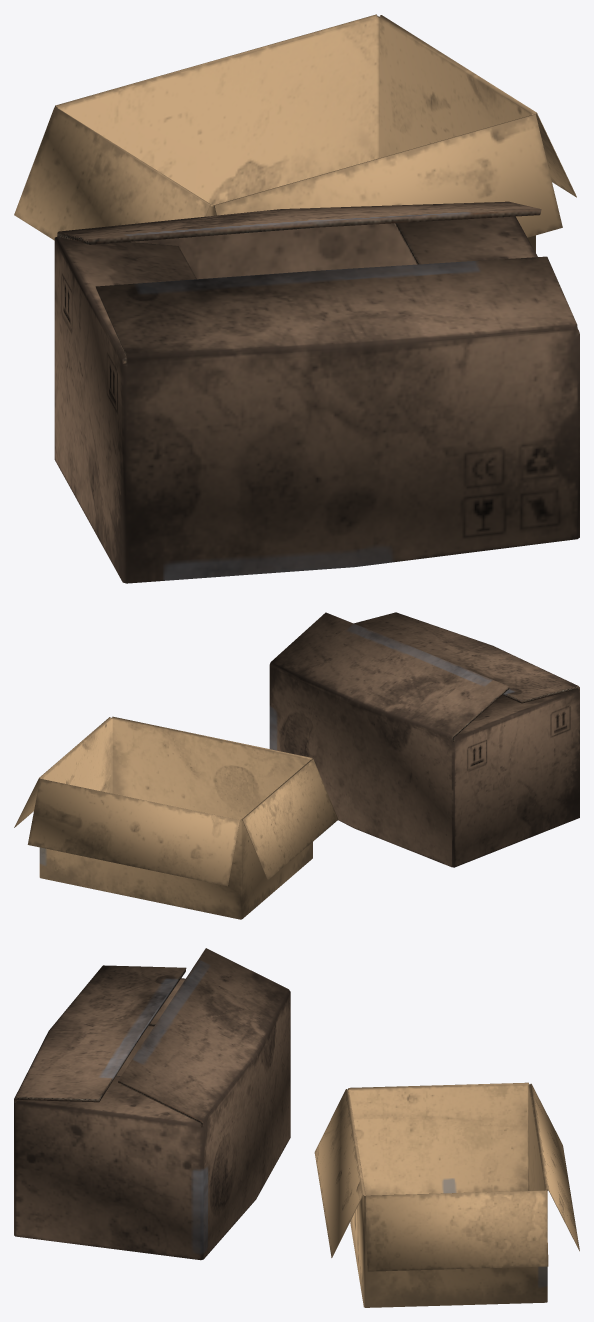
File: cardboard.glb
3 views of the same model, one above another, from view 1: azimuth 30°, elevation 25°; view 2: azimuth 150°, elevation 25°; view 3: azimuth 270°, elevation 25° (orthographic). The views are drawn at different scales.
Visible parts, largest first — view 1: cardboard; view 2: cardboard; view 3: cardboard.
Boxes of the visible parts, x1,y1,x2,y2 form: cardboard: [14, 14, 579, 583]; cardboard: [14, 612, 579, 919]; cardboard: [14, 948, 579, 1307].
Bounding box in the file's own units: 1.21 × 0.4857 × 1.39.
2 materials, 2 textured.
